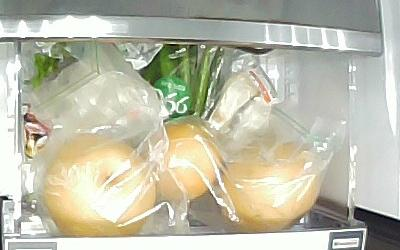pear_vinyl: (43, 132, 158, 236), (223, 132, 322, 232), (154, 123, 221, 200)
